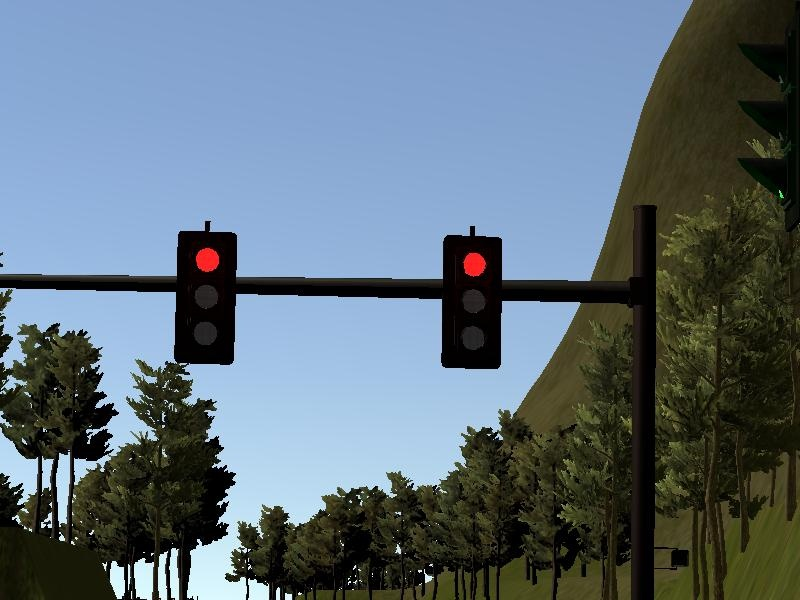RED: (172, 230, 236, 364), (439, 235, 503, 369)
